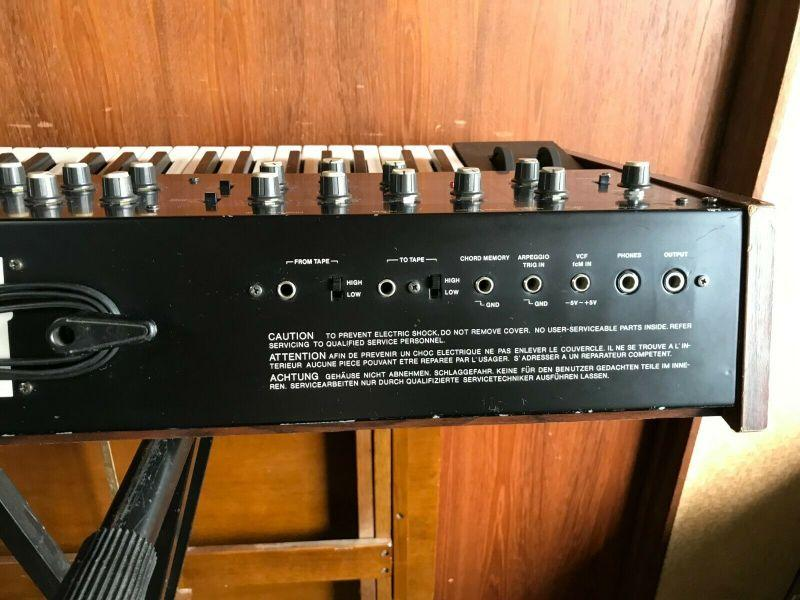synthesizer: (22, 133, 775, 443)
